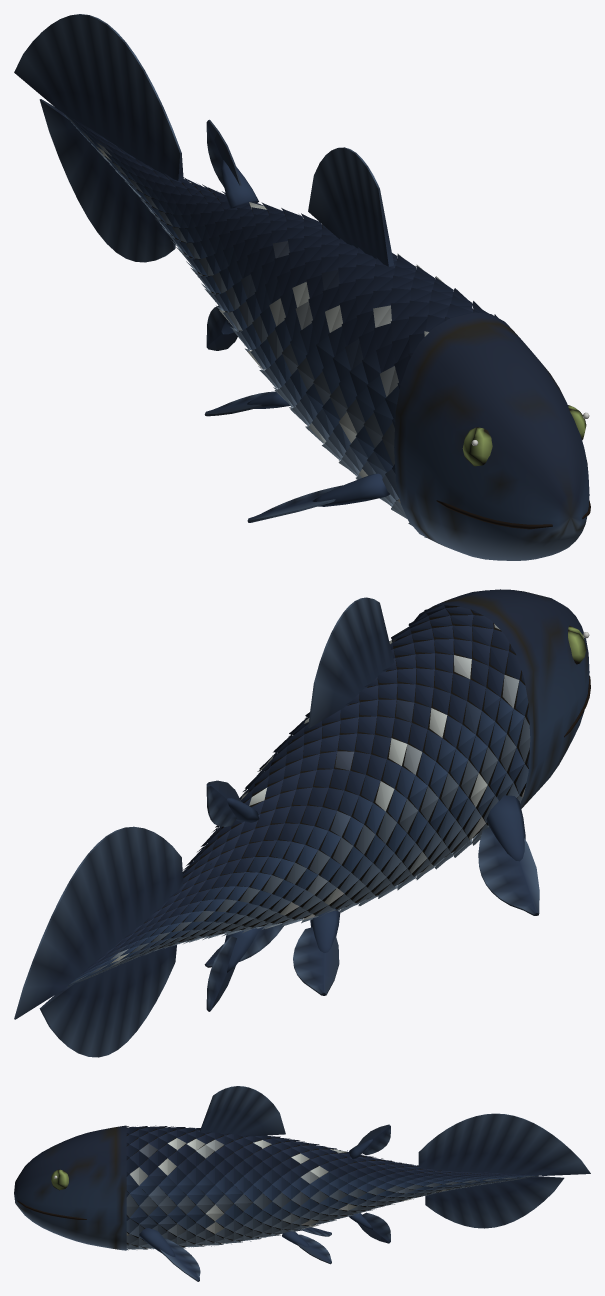
Rendered from Miguashaia.fbx.
3 renders of one model, top to bottom at view 1: azimuth 30°, elevation 25°; view 2: azimuth 150°, elevation 25°; view 3: azimuth 270°, elevation 25°, orthographic. The views are drawn at different scales.
Visible parts, largest first — view 1: Miguashaia; view 2: Miguashaia; view 3: Miguashaia.
Boxes of the visible parts, left/top/right/bottom form: Miguashaia: left=14, top=14, right=590, bottom=560; Miguashaia: left=14, top=589, right=590, bottom=1057; Miguashaia: left=14, top=1086, right=590, bottom=1281.
Bounding box in the file's own units: 0.5269 × 0.5434 × 1.74.
